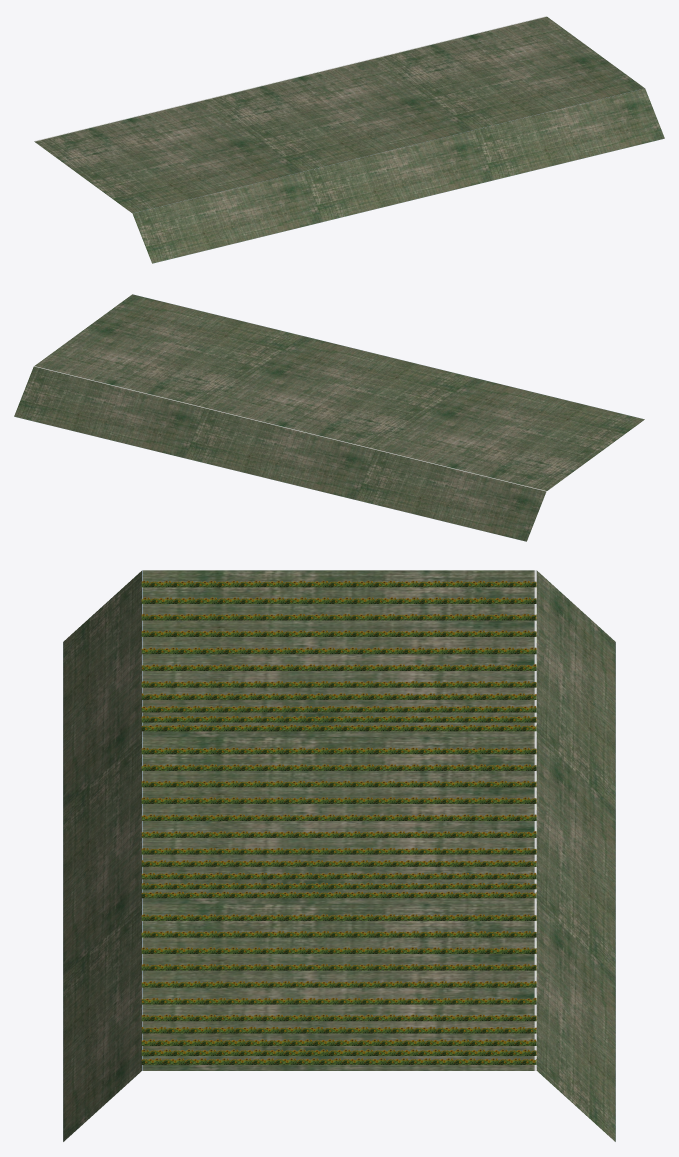
The model's file is poleL1.gltf.
3 renders of one model, top to bottom at view 1: azimuth 30°, elevation 25°; view 2: azimuth 150°, elevation 25°; view 3: azimuth 270°, elevation 25°, orthographic. The views are drawn at different scales.
Bounding box in the file's own units: 300 × 22 × 140.
1 material, 1 textured.
